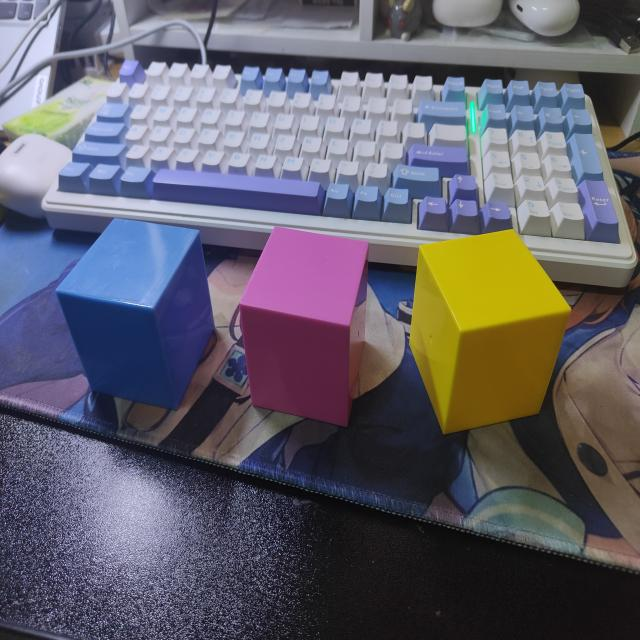blue: (57, 216, 217, 408)
pink: (237, 224, 370, 430)
yellow: (410, 230, 571, 437)
